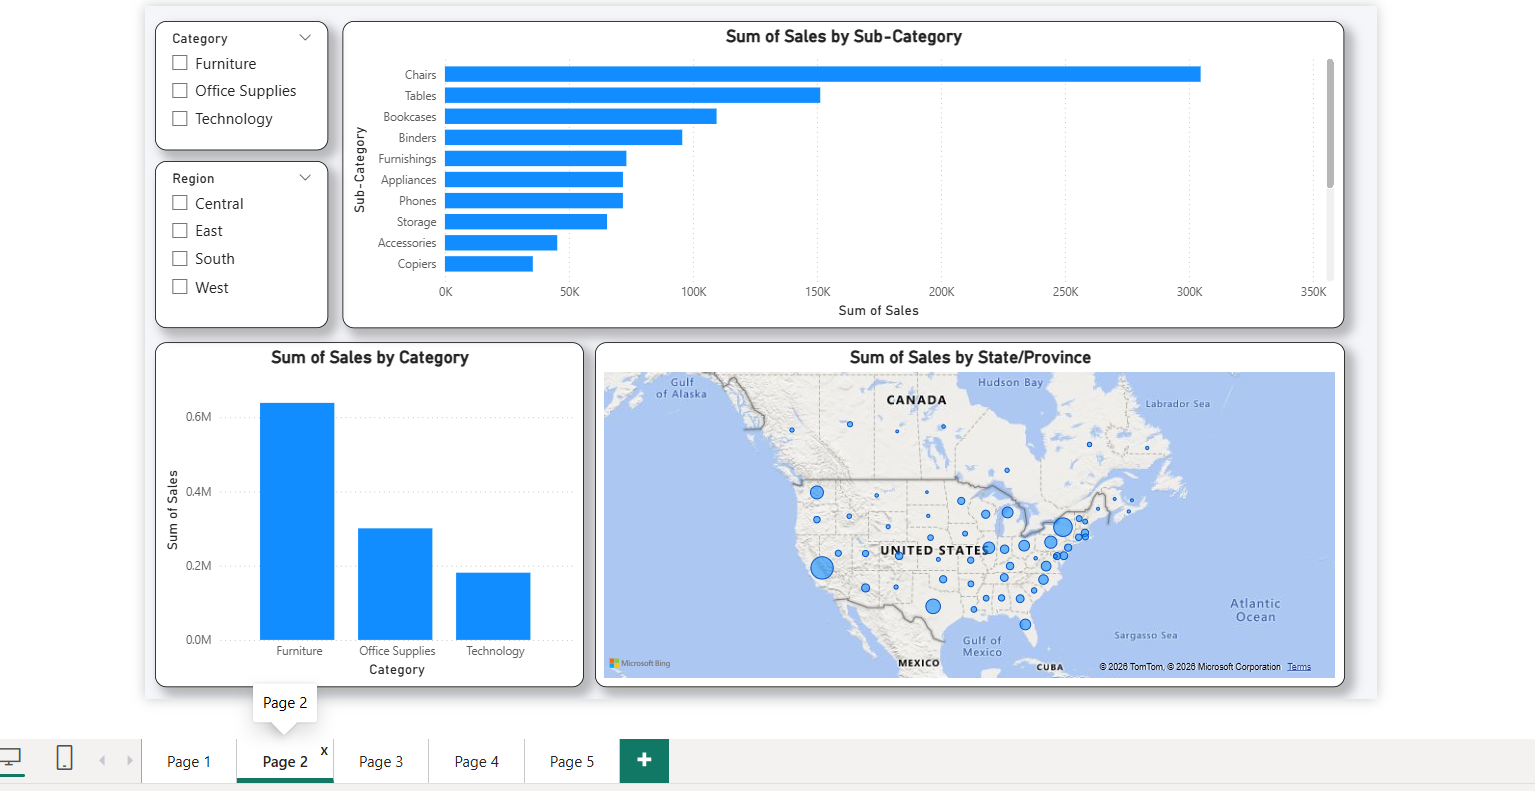

The dashboard page shown, as its layout file describes it:
{"tool":"powerbi","page":{"name":"Page 2","canvas":[1280,720],"ordinal":1},"visuals":[{"type":"clusteredColumnChart","fields":{"Category":["Orders.Category"],"Y":["Sum(Orders.Sales)"]},"box":[10.4,349.4,445.5,358.4],"z":0},{"type":"clusteredBarChart","fields":{"Category":["Orders.Sub-Category"],"Y":["Sum(Orders.Sales)"]},"box":[205.8,15.9,1040.6,318.8],"z":1000},{"type":"map","fields":{"Category":["Orders.State/Province"],"Size":["Sum(Orders.Sales)"]},"box":[467.5,349.4,779.2,358.4],"z":2000},{"type":"slicer","fields":{"Values":["Orders.Category"]},"box":[10.1,15.9,179.7,134.8],"z":3000},{"type":"slicer","fields":{"Values":["Orders.Region"]},"box":[10.1,160.9,179.7,173.9],"z":4000}]}

Visuals, with their boxes on the page's 1280x720 design canvas (x1, y1, x2, y2). These are canvas units, not pixel positions in the 1535x791 screenshot, which may show the page scaled, cropped or inside an application window:
clusteredColumnChart - Orders.Category x Sum(Orders.Sales): [x1=10, y1=349, x2=456, y2=708]
clusteredBarChart - Orders.Sub-Category x Sum(Orders.Sales): [x1=206, y1=16, x2=1246, y2=335]
map - Orders.State/Province x Sum(Orders.Sales): [x1=468, y1=349, x2=1247, y2=708]
slicer - Orders.Category: [x1=10, y1=16, x2=190, y2=151]
slicer - Orders.Region: [x1=10, y1=161, x2=190, y2=335]
